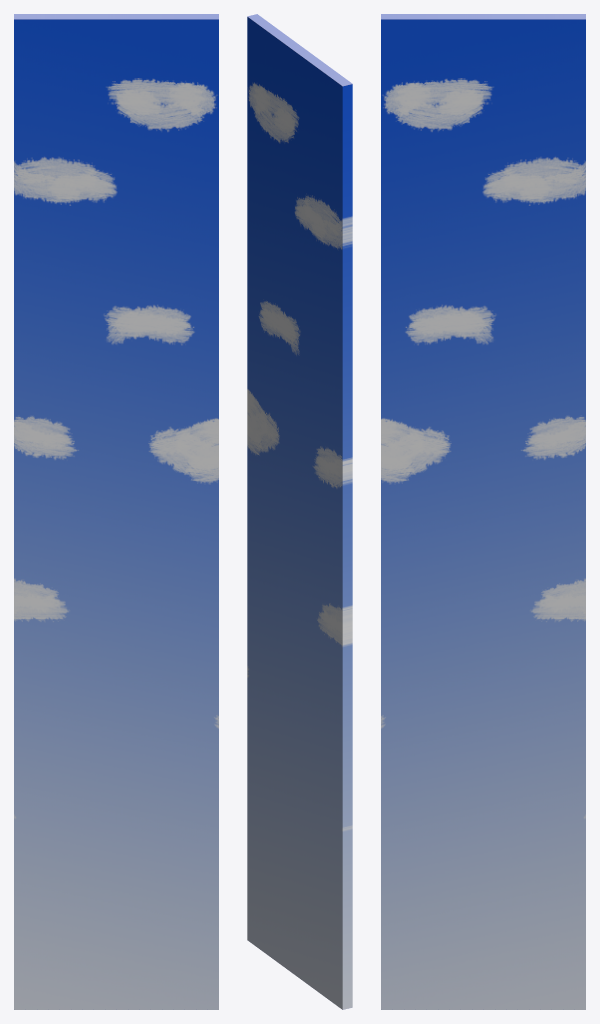
The model's file is background.dae.
3 renders of one model, left to right at view 1: azimuth 90°, elevation 25°; view 2: azimuth 210°, elevation 25°; view 3: azimuth 270°, elevation 25°, orthographic. The views are drawn at different scales.
Parts seen in each view (by area): view 1: pCube2; view 2: pCube2; view 3: pCube2.
Boxes of the visible parts, x1,y1,x2,y2 form: pCube2: (14,14,218,1009); pCube2: (247,14,352,1009); pCube2: (381,14,585,1009).
Size of the model in its own units: 3.15 by 276 by 51.72.
1 material, 1 textured.
